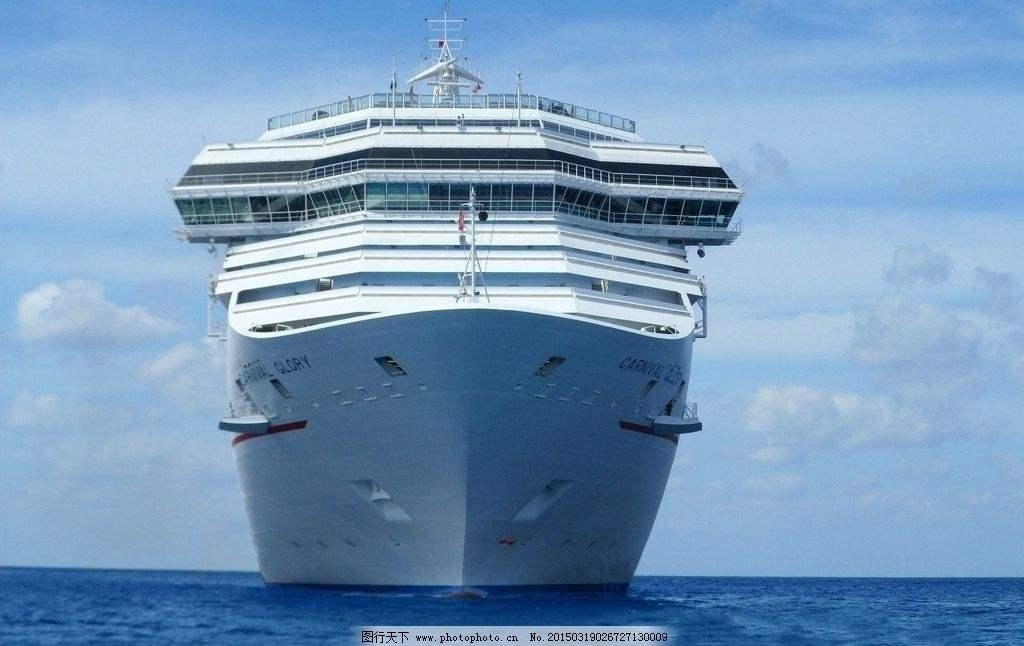youlun: (167, 1, 741, 606)
